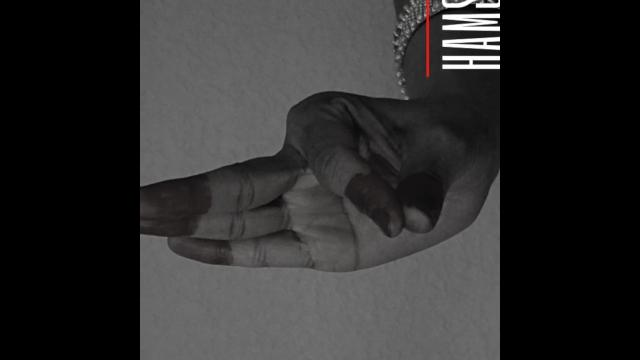hansaasya: (140, 78, 500, 298)
